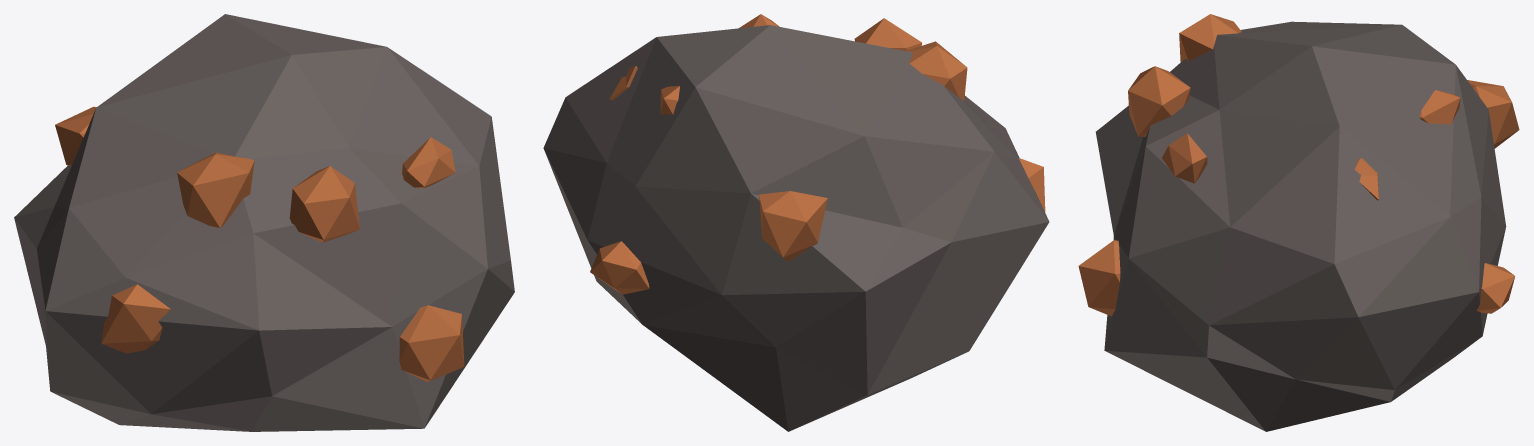
Rendered from ore_iron.glb.
3 renders of one model, left to right at view 1: azimuth 30°, elevation 25°; view 2: azimuth 150°, elevation 25°; view 3: azimuth 270°, elevation 25°, orthographic. The views are drawn at different scales.
Visible parts, largest first — view 1: ore_iron; view 2: ore_iron; view 3: ore_iron.
Boxes of the visible parts, bbox=[...] form: ore_iron: bbox=[14, 14, 514, 431]; ore_iron: bbox=[543, 14, 1049, 431]; ore_iron: bbox=[1078, 14, 1519, 431].
Size of the model in its own units: 1.48 by 1.04 by 1.17.
